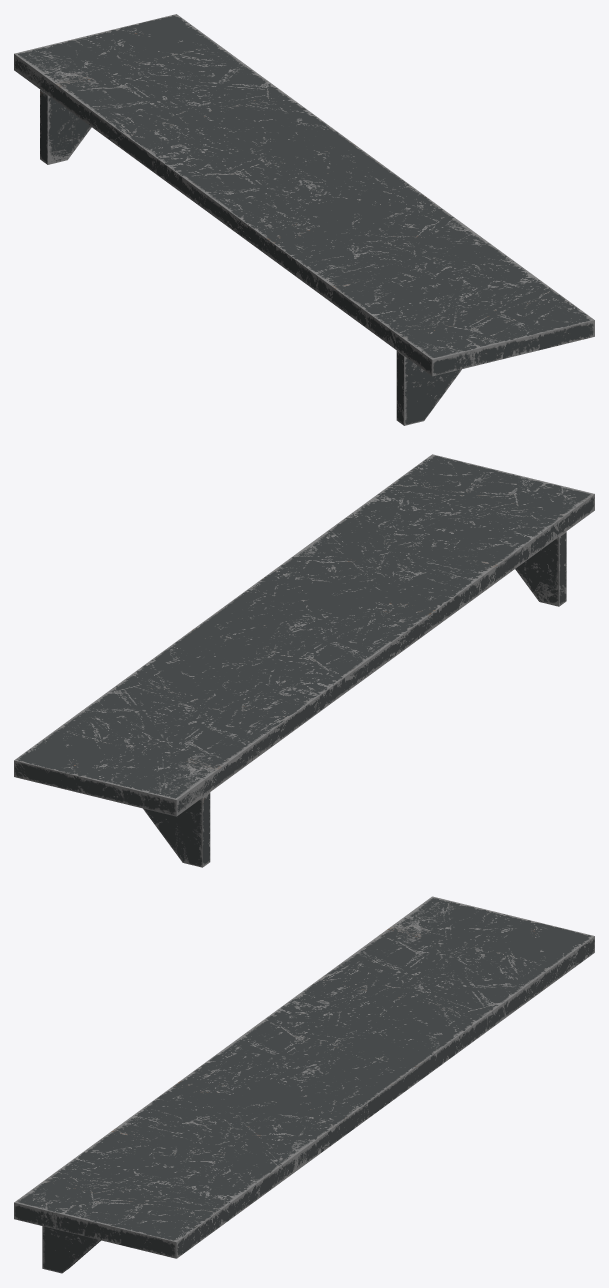
Rendered from office_shelf01_cube.fbx.
The picture shows the model from 3 angles, top to bottom: view 1: azimuth 30°, elevation 25°; view 2: azimuth 150°, elevation 25°; view 3: azimuth 330°, elevation 25°; orthographic projection.
Parts seen in each view (by area): view 1: office_shelf01_cube; view 2: office_shelf01_cube; view 3: office_shelf01_cube.
Part boxes in pixels (x1,y1,x2,y2): office_shelf01_cube: [14, 14, 594, 425]; office_shelf01_cube: [14, 454, 594, 867]; office_shelf01_cube: [14, 896, 594, 1273].
Size of the model in its own units: 1.11 by 0.5641 by 4.93.
